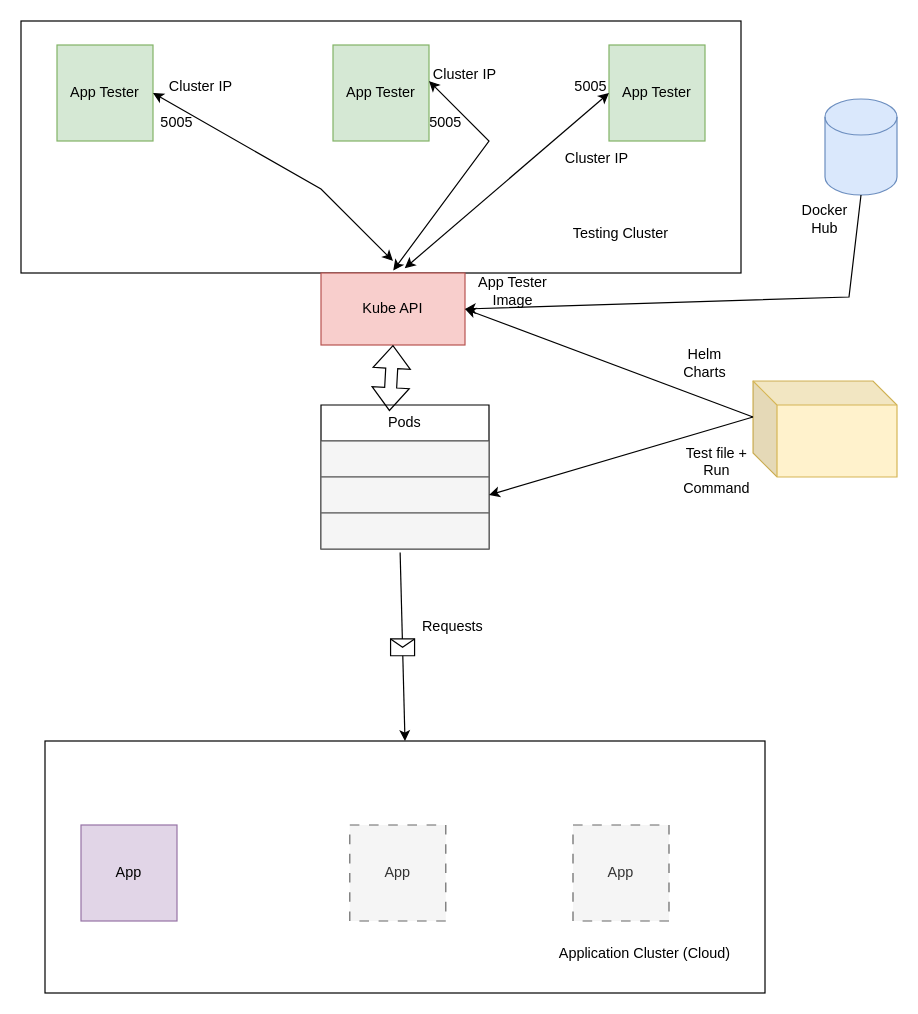
Some shapes in this 918 by 1014 pixel diagram are drawn without their labels. Each missing label, with the centre of its shape:
Container Registry: [860,146]
Dev Machine: [824,428]
Pod1: 5005: [404,458]
Pod2: 5006: [404,494]
Pod3: 5007: [404,530]
